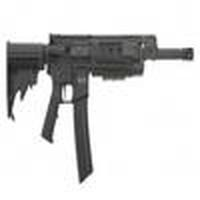gun: (6, 30, 200, 141)
